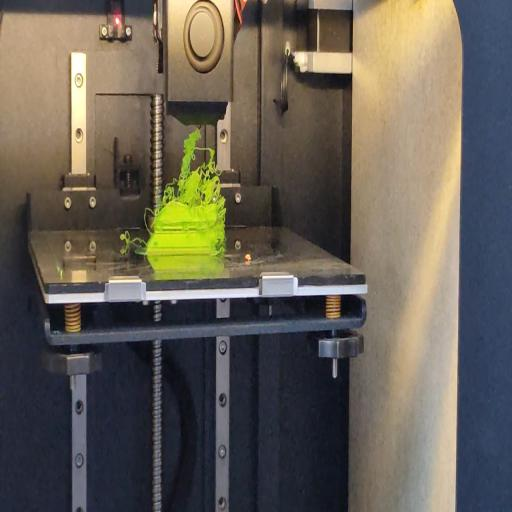spaghetti: (156, 127, 228, 207), (119, 228, 148, 248), (216, 206, 226, 252), (143, 205, 152, 232)
